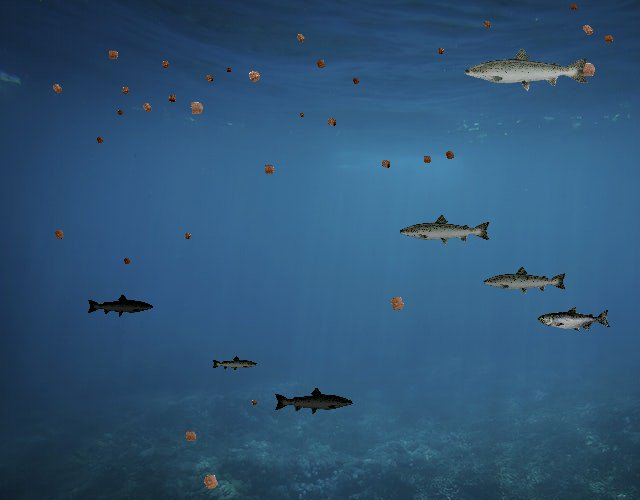Fish: (462, 46, 591, 92), (398, 214, 492, 248), (482, 265, 568, 296), (274, 387, 355, 416), (539, 307, 612, 333), (86, 293, 154, 318), (211, 356, 258, 373)
Pellet: (196, 466, 226, 496), (242, 64, 267, 89), (179, 424, 202, 447), (376, 155, 395, 174), (180, 229, 195, 244), (433, 44, 448, 58), (120, 254, 134, 268), (248, 397, 260, 409)
